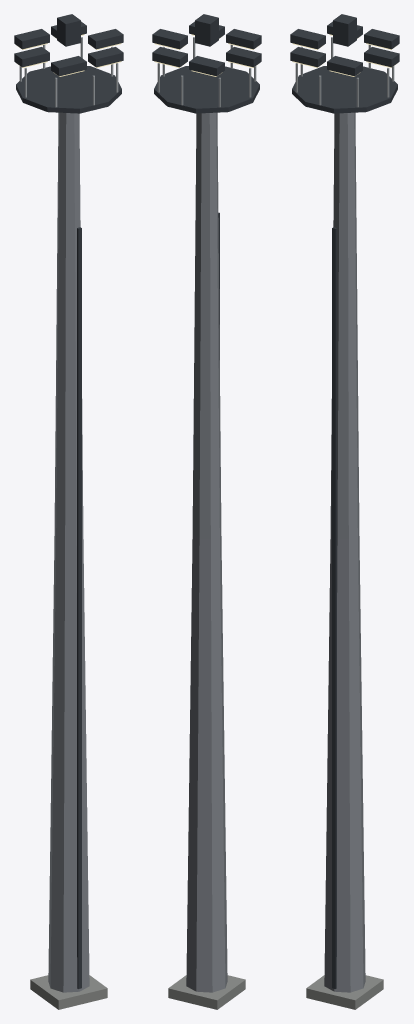
The model's file is yard-mast.glb.
3 renders of one model, left to right at view 1: azimuth 30°, elevation 25°; view 2: azimuth 150°, elevation 25°; view 3: azimuth 330°, elevation 25°, orthographic.
Visible parts, largest first — view 1: mast; view 2: mast; view 3: mast.
Part boxes in pixels (box(x1,y1,x2,y2)): mast: box(14, 14, 123, 1009); mast: box(152, 14, 261, 1009); mast: box(290, 14, 399, 1009).
Size of the model in its own units: 3.3 by 30.25 by 2.85.
1 material, 1 textured.
